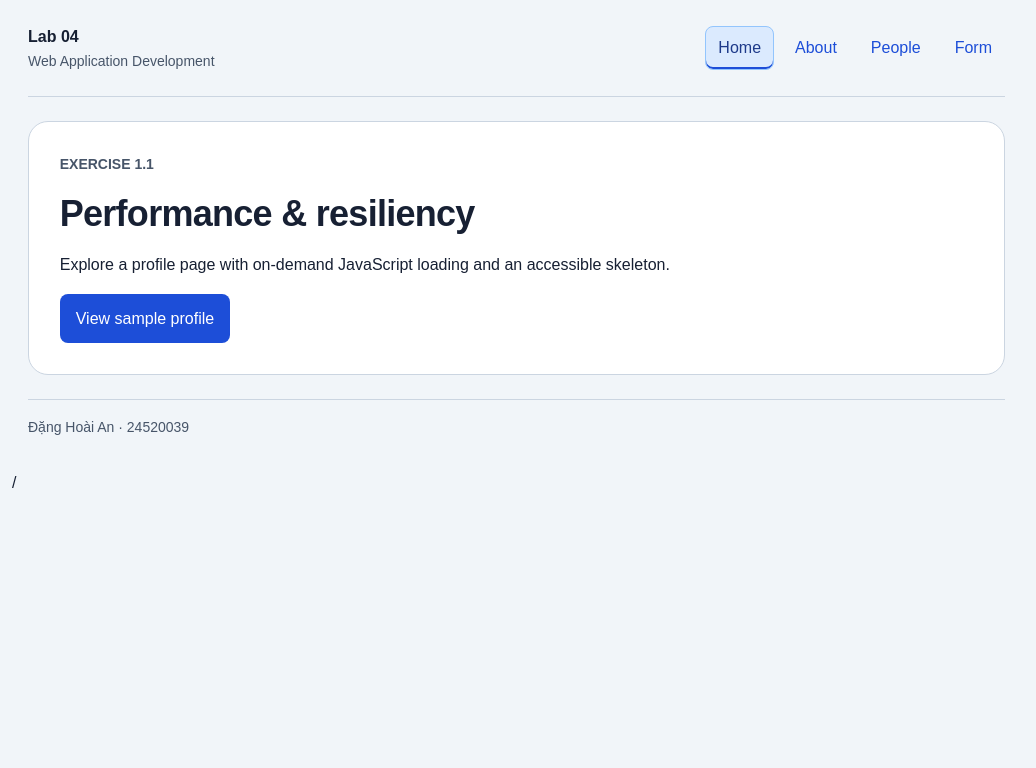
it: Shared layout routing regression › navigates to About without replacing the shared layout
Click the link "About" at [816, 48], box left=795, top=39, right=837, bottom=56
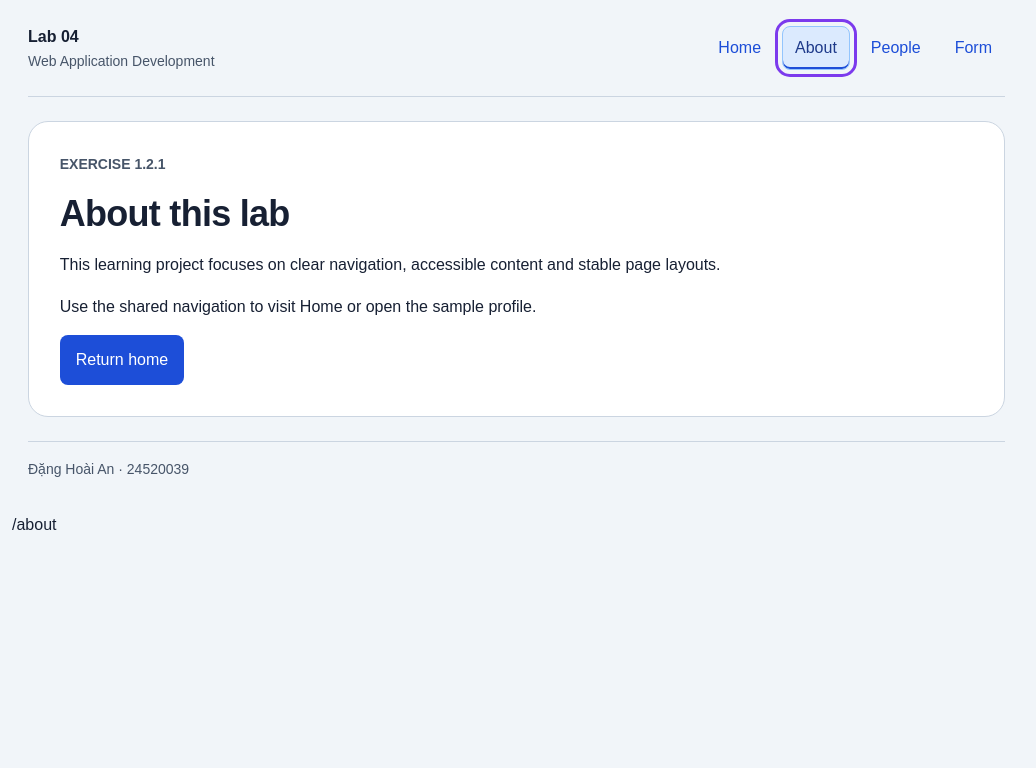
Now the heading "About this lab" is shown, box left=60, top=193, right=290, bottom=234
Now the text with test id "current-path" reads "/about", box left=12, top=516, right=56, bottom=533
